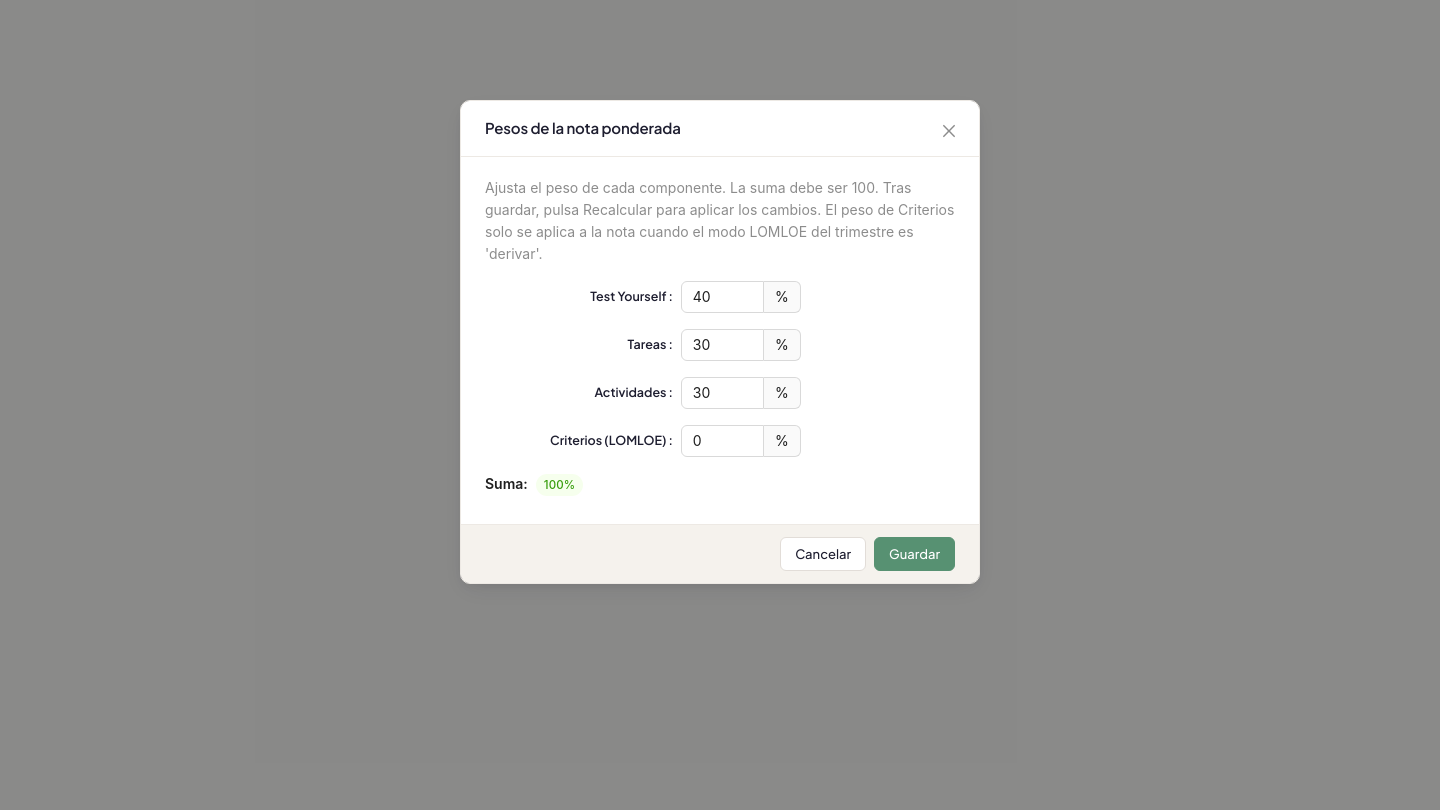
Test: GradebookWeightsModal › bloquea el guardado si los pesos no suman 100
Replace the text in the number field named "Test Yourself" with "50" at (722, 296), box [682,282,763,312]
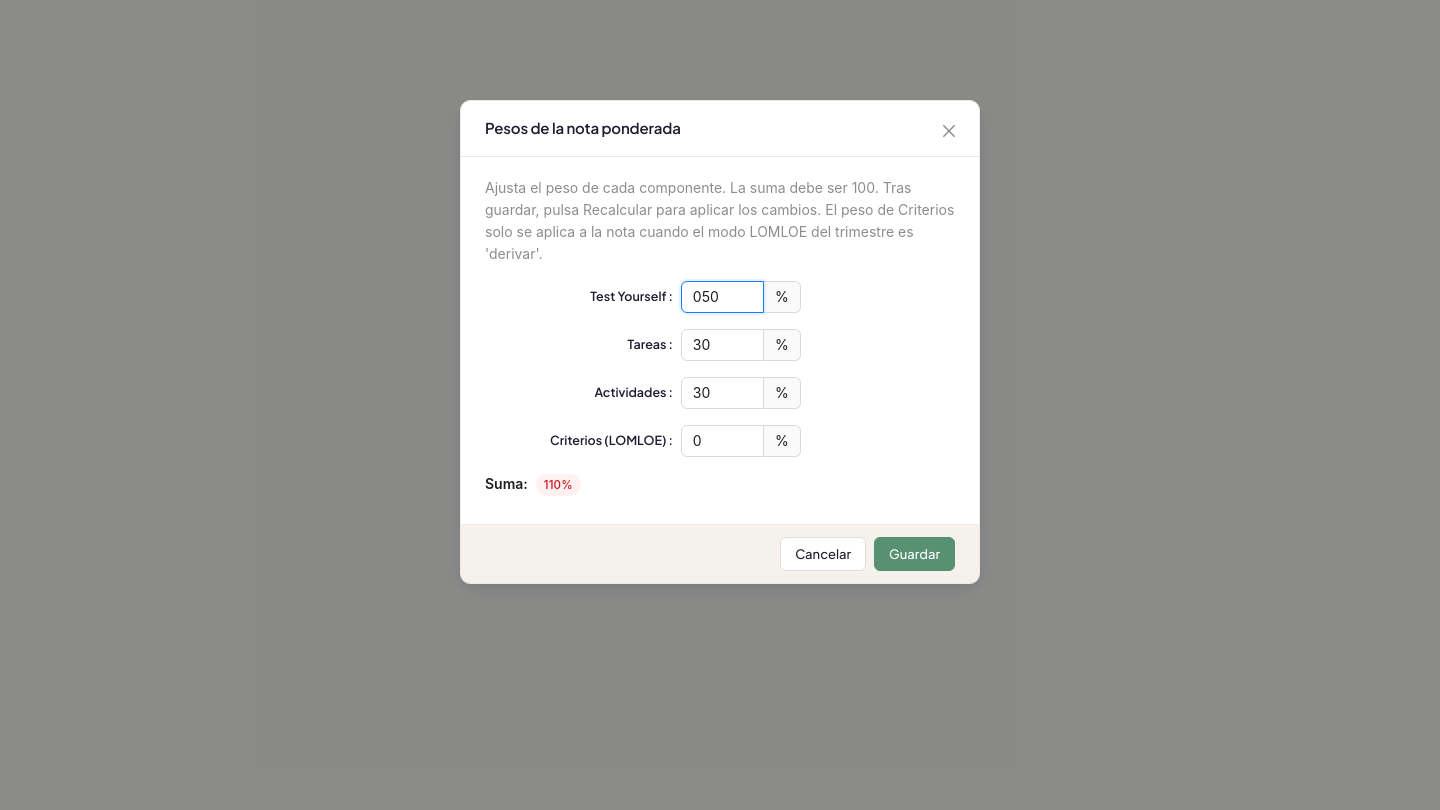
Click the button "Guardar" at (915, 554), box [874,536,955,570]
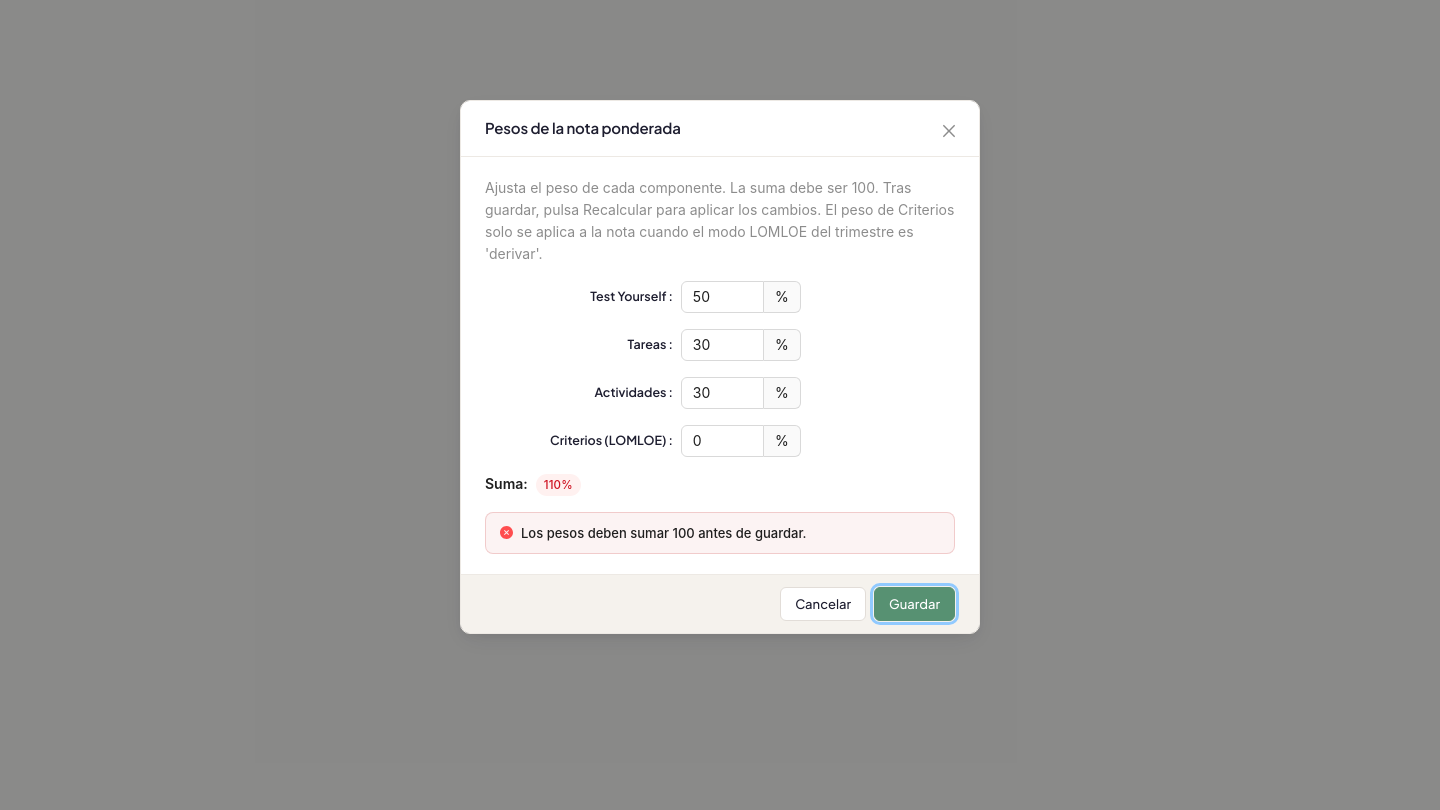
Check: the text "Los pesos deben sumar 100 antes de guardar." is shown, box [521,524,806,540]
